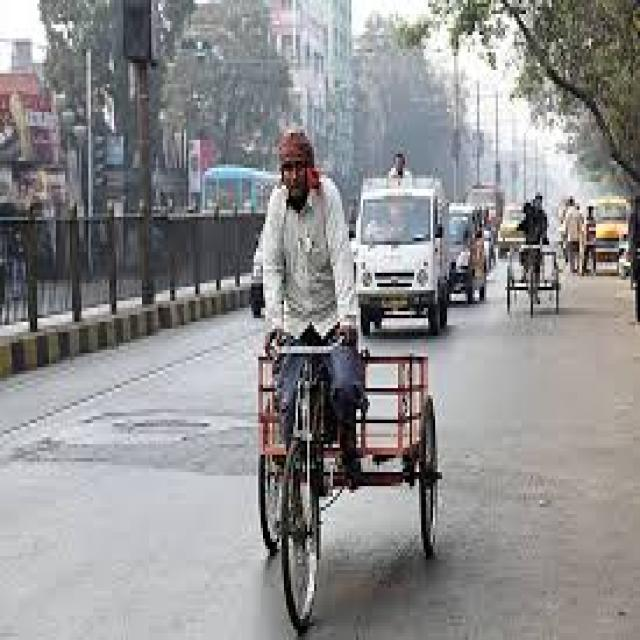bicycle: (259, 130, 439, 630)
car: (356, 169, 449, 333)
